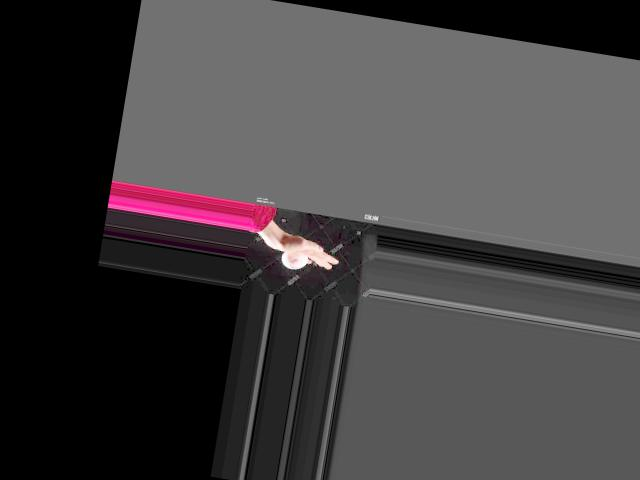egg: (279, 249, 307, 271)
